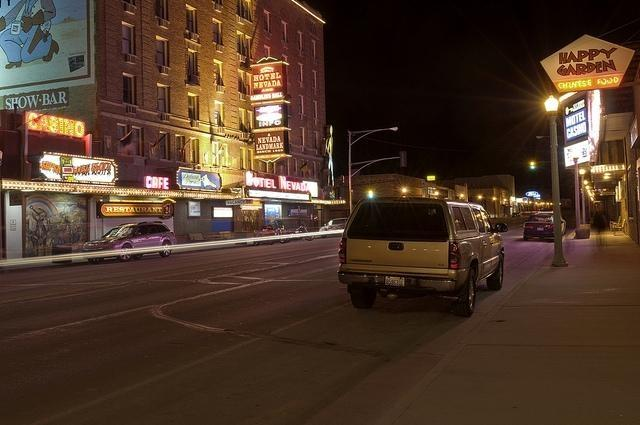car: (76, 221, 178, 266), (523, 213, 566, 242), (319, 219, 346, 231)
motorcycle: (283, 219, 315, 241)
truck: (338, 196, 508, 318)
